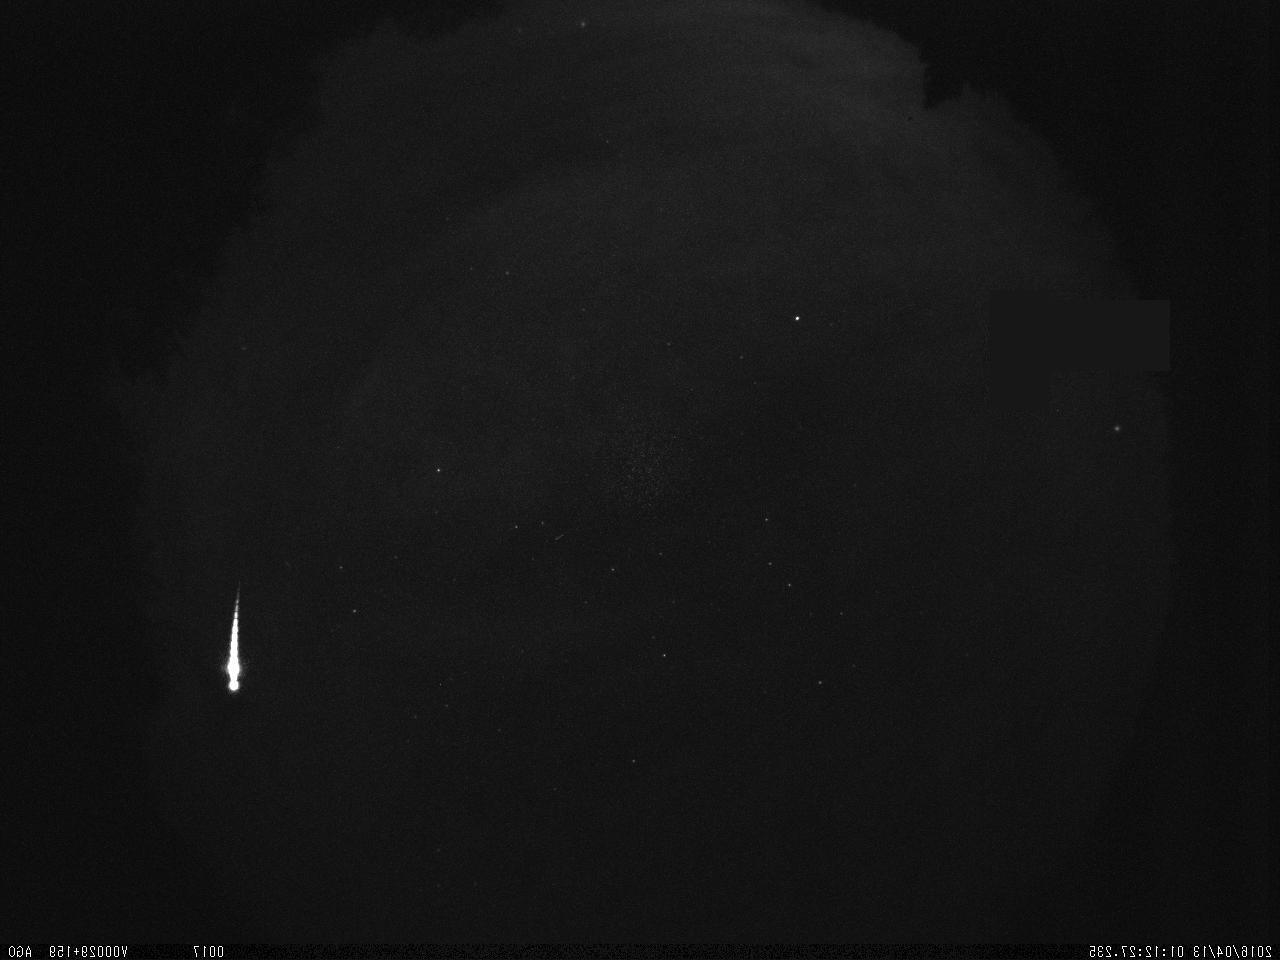meteor: (207, 567, 273, 711)
